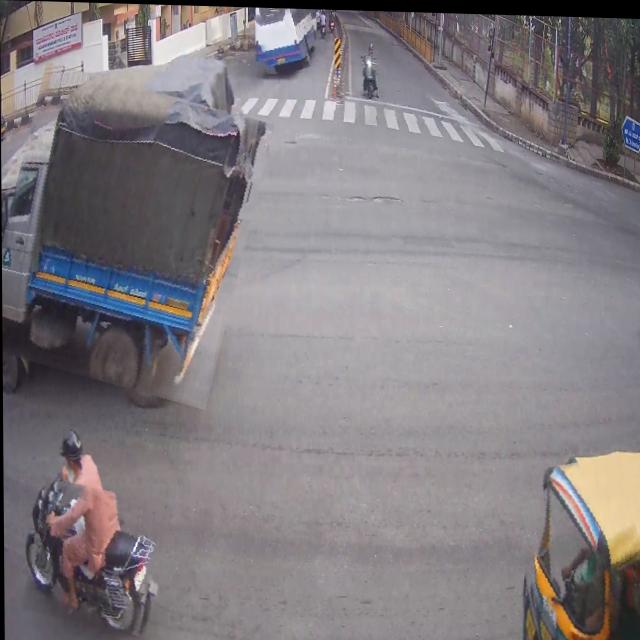Bus: (256, 6, 318, 70)
Three-wheeler: (512, 453, 640, 640)
Truck: (0, 72, 259, 397)
Two-wheelers: (26, 481, 158, 631), (360, 51, 382, 95)
